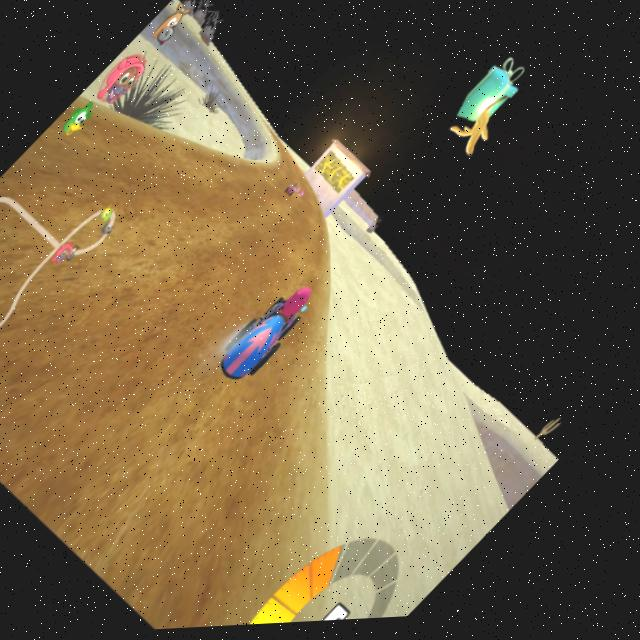enemy_kart: (282, 179, 306, 201)
off_track: (320, 264, 580, 510), (142, 36, 287, 176)
player_kart: (210, 273, 335, 398)
track: (212, 158, 348, 286)
